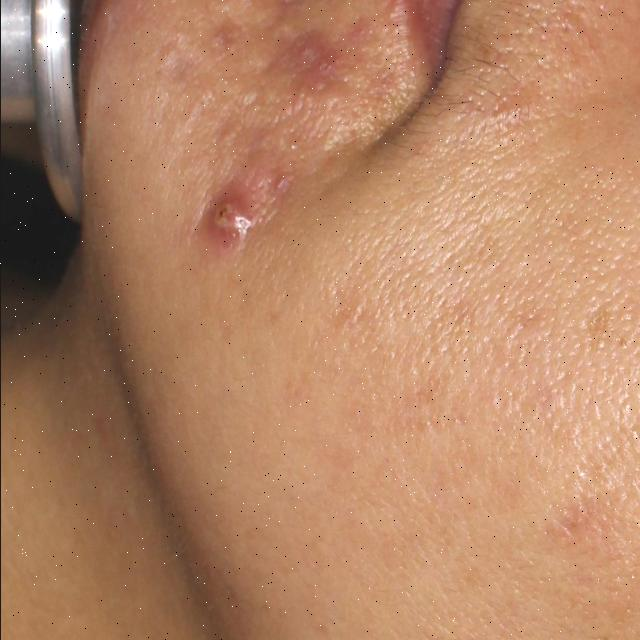nodules: (262, 10, 358, 114), (187, 177, 290, 263)
